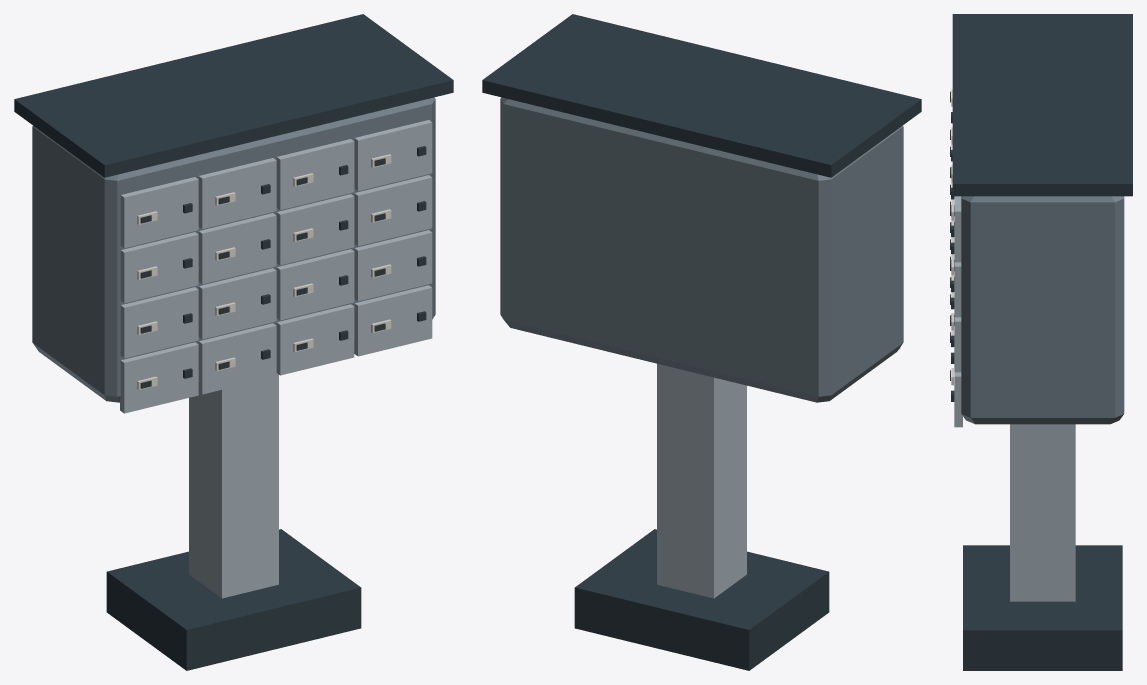
Rendered from b14_curbside_cluster_mail_station.glb.
3 renders of one model, left to right at view 1: azimuth 30°, elevation 25°; view 2: azimuth 150°, elevation 25°; view 3: azimuth 270°, elevation 25°, orthographic.
Visible parts, largest first — view 1: b14_curbside_cluster_mail_station; view 2: b14_curbside_cluster_mail_station; view 3: b14_curbside_cluster_mail_station.
Part boxes in pixels (x1,y1,x2,y2): b14_curbside_cluster_mail_station: (14,14,453,670); b14_curbside_cluster_mail_station: (482,14,921,670); b14_curbside_cluster_mail_station: (950,14,1132,670).
Size of the model in its own units: 1.16 by 1.69 by 0.5275.
